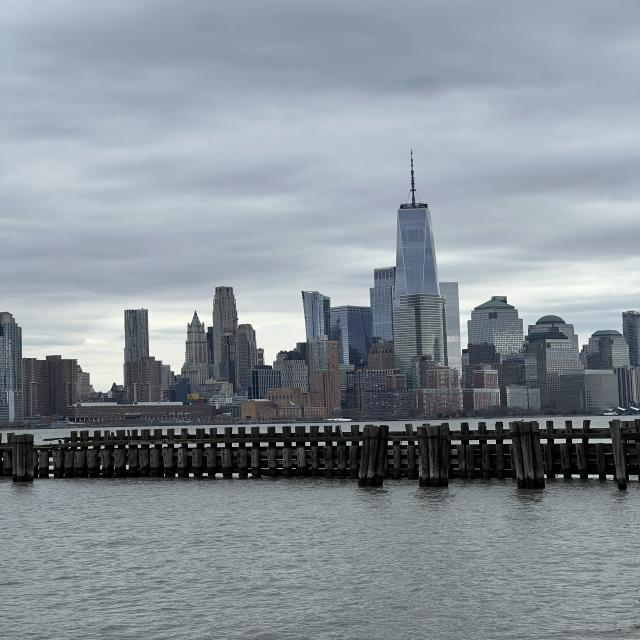WTC: (395, 144, 442, 298)
